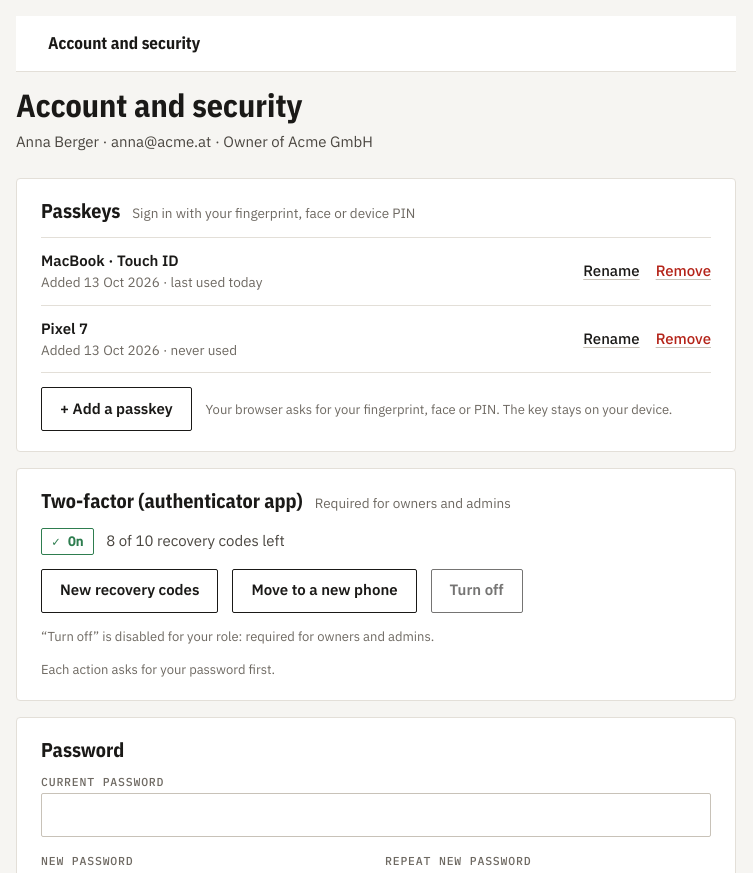
Scenario: AccountSecurityPage (W4) › says so when the passkey was not added, and adds nothing
Check: the text "Pixel 7" is shown, box 41,319 -> 88,338
Click the button "+ Add a passkey" at (116, 409), box 41,387 -> 192,431
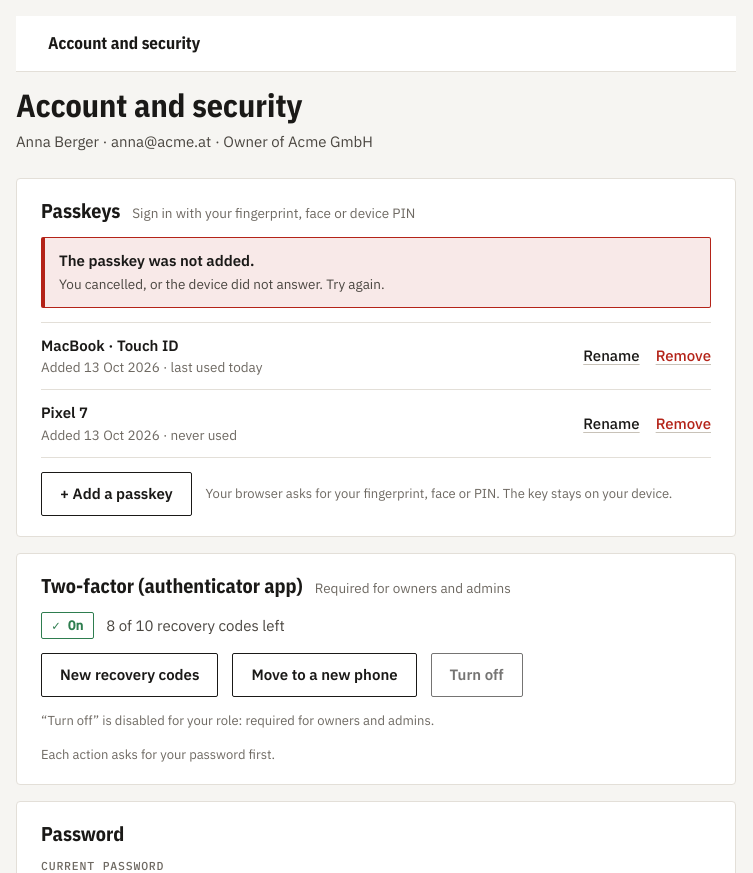
Check: the text "The passkey was not added." is shown, box 59,251 -> 254,270
